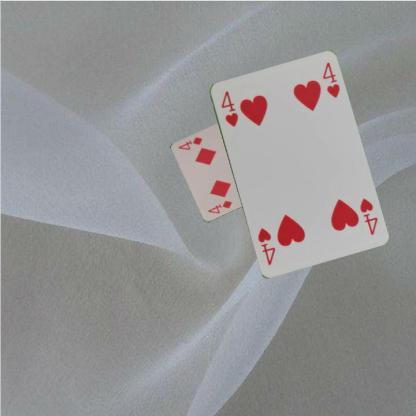4d: (205, 198, 234, 214)
4h: (218, 88, 240, 128), (356, 196, 378, 236)
